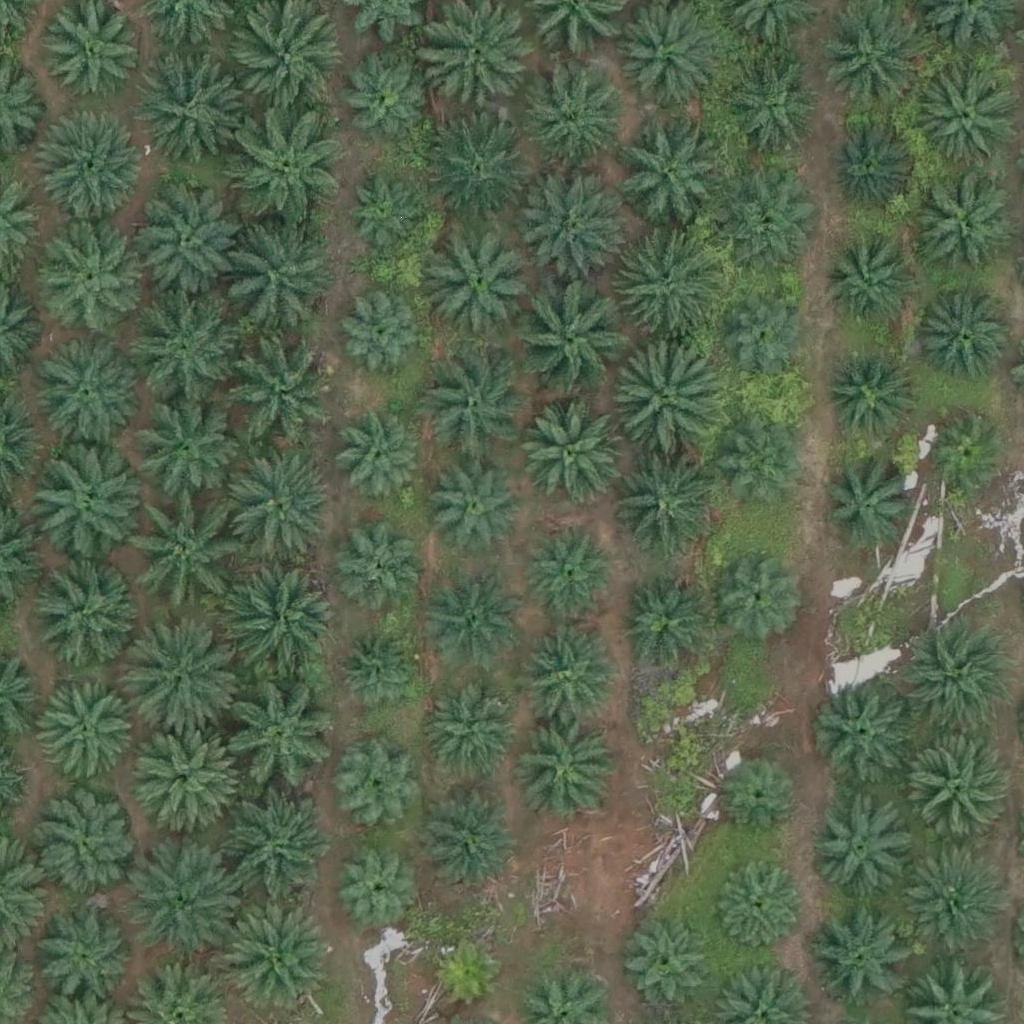Kelapa_Sawit: (129, 626, 242, 740), (135, 49, 248, 163), (227, 448, 340, 561), (223, 567, 336, 680), (216, 683, 329, 796), (23, 452, 136, 565), (614, 115, 727, 228), (607, 231, 720, 344), (234, 4, 347, 117), (128, 185, 241, 298), (34, 111, 147, 224), (215, 798, 327, 912), (219, 902, 331, 1016), (524, 397, 636, 511), (229, 109, 341, 223), (897, 626, 1009, 739), (610, 458, 722, 571), (129, 848, 241, 961), (129, 721, 241, 834), (136, 496, 248, 609), (21, 557, 133, 670), (813, 1, 925, 114), (614, 344, 726, 457), (515, 276, 627, 389), (511, 167, 623, 280), (425, 6, 537, 119), (424, 108, 536, 221), (425, 227, 537, 340), (414, 348, 526, 461), (220, 219, 332, 332), (225, 329, 337, 442), (127, 384, 239, 497), (126, 293, 238, 406), (33, 340, 145, 453), (813, 905, 913, 1006), (519, 629, 619, 730), (515, 721, 615, 822), (420, 677, 520, 778), (421, 786, 521, 887), (35, 683, 135, 784), (35, 795, 135, 896), (37, 904, 137, 1005), (914, 288, 1014, 389), (820, 456, 920, 557), (714, 176, 814, 277), (526, 72, 626, 173), (41, 235, 141, 336), (903, 851, 1003, 951), (907, 727, 1007, 827), (815, 683, 915, 783), (805, 807, 905, 907), (427, 451, 527, 551), (422, 580, 522, 680), (917, 74, 1017, 174), (914, 178, 1014, 278), (724, 62, 824, 162), (714, 855, 802, 944), (424, 927, 512, 1015), (713, 558, 801, 646), (620, 918, 708, 1006), (525, 525, 613, 613), (333, 843, 421, 931), (337, 735, 425, 823), (829, 120, 917, 208), (826, 357, 914, 445), (716, 753, 803, 841), (621, 581, 708, 669), (335, 627, 422, 715), (335, 522, 422, 610), (821, 237, 908, 325), (722, 292, 809, 380), (718, 408, 805, 496), (338, 410, 425, 498), (338, 286, 425, 374), (349, 53, 436, 141), (347, 176, 422, 252), (932, 411, 1007, 487)
